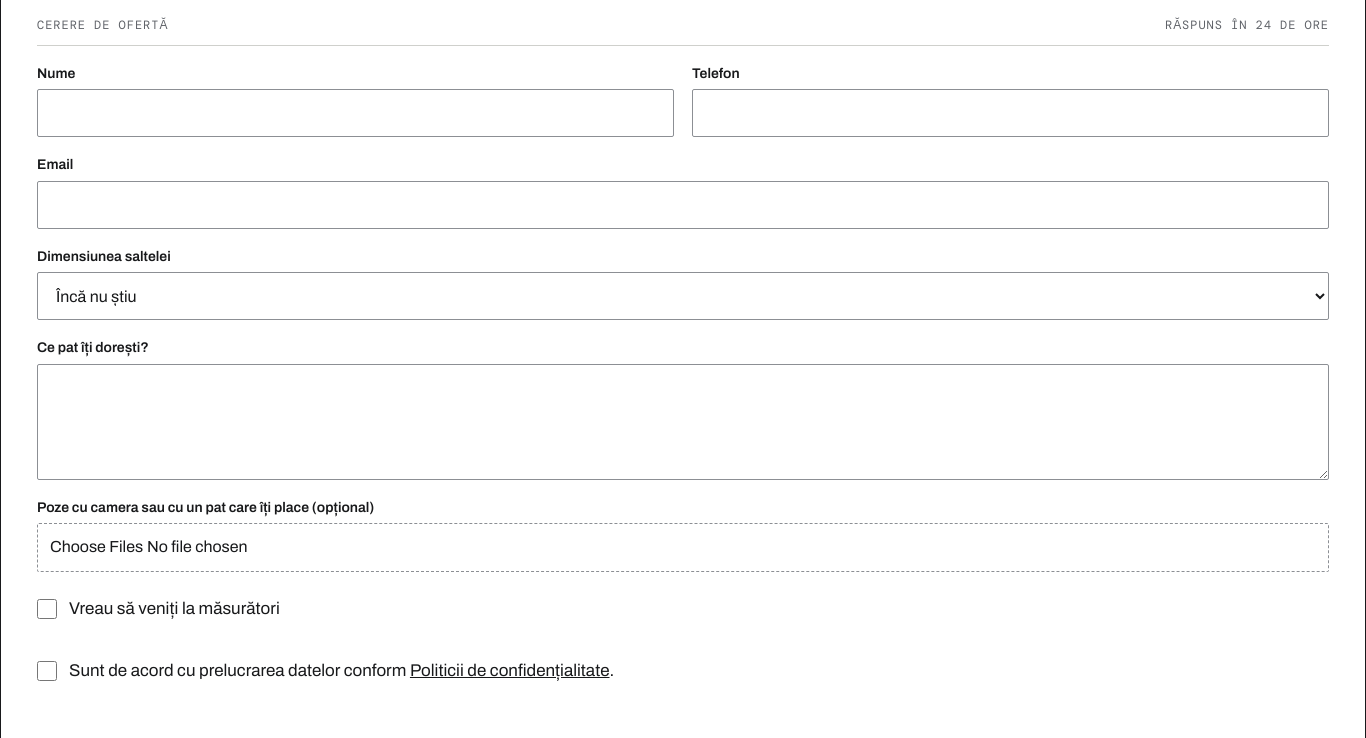
Scenario: ContactForm › shows a server error message and the server's field errors
Type "Ana Pop" into the field labelled "Nume" at (356, 113), box top-left (37, 89), bottom-right (674, 137)
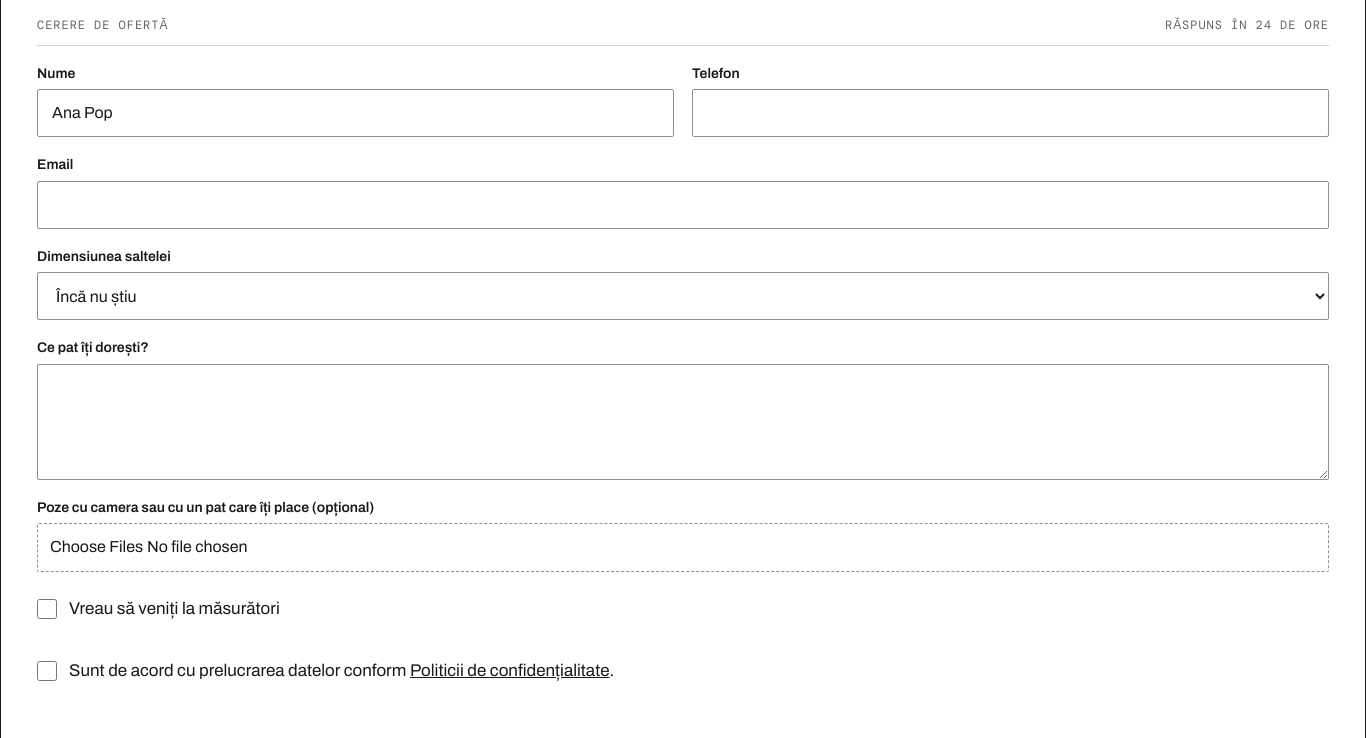
Type "0722 123 456" into the field labelled "Telefon" at (1010, 113), box top-left (692, 89), bottom-right (1329, 137)
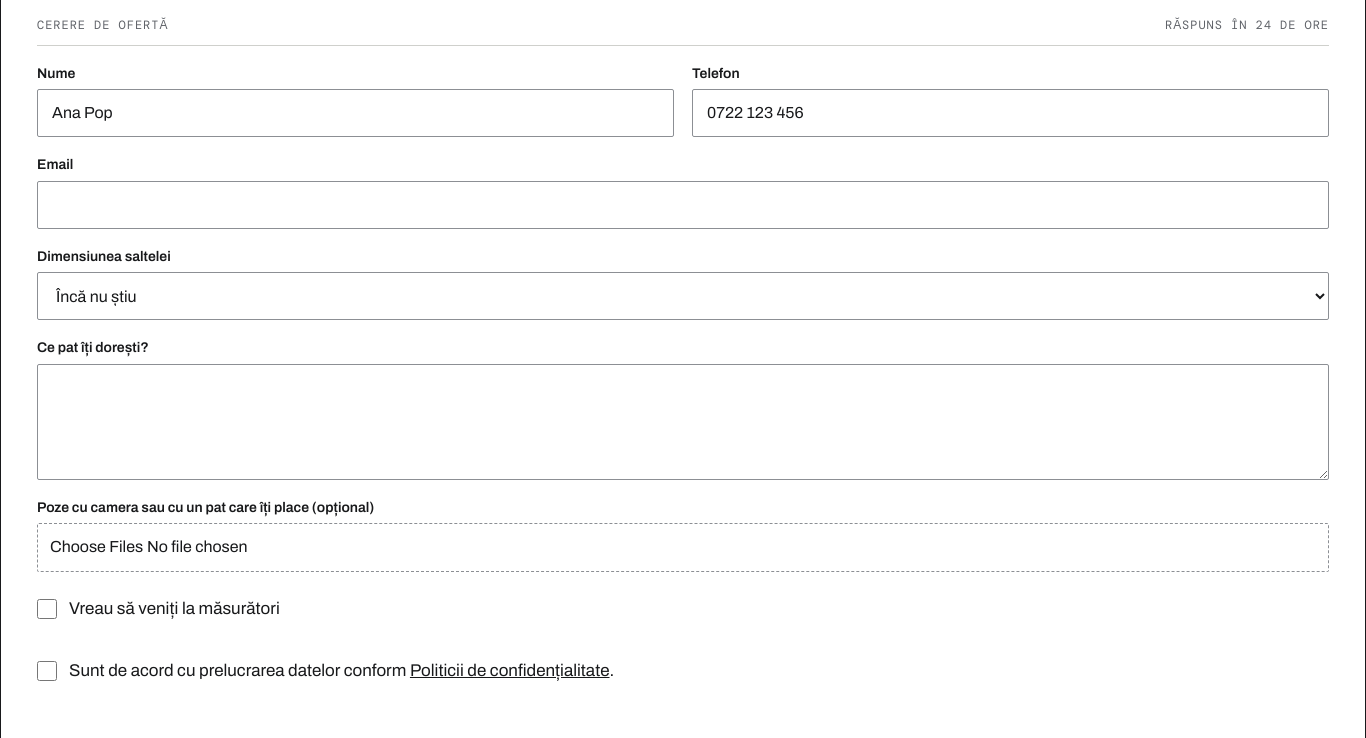
Type "ana@example.com" into the field labelled "Email" at (683, 205), box top-left (37, 181), bottom-right (1329, 229)
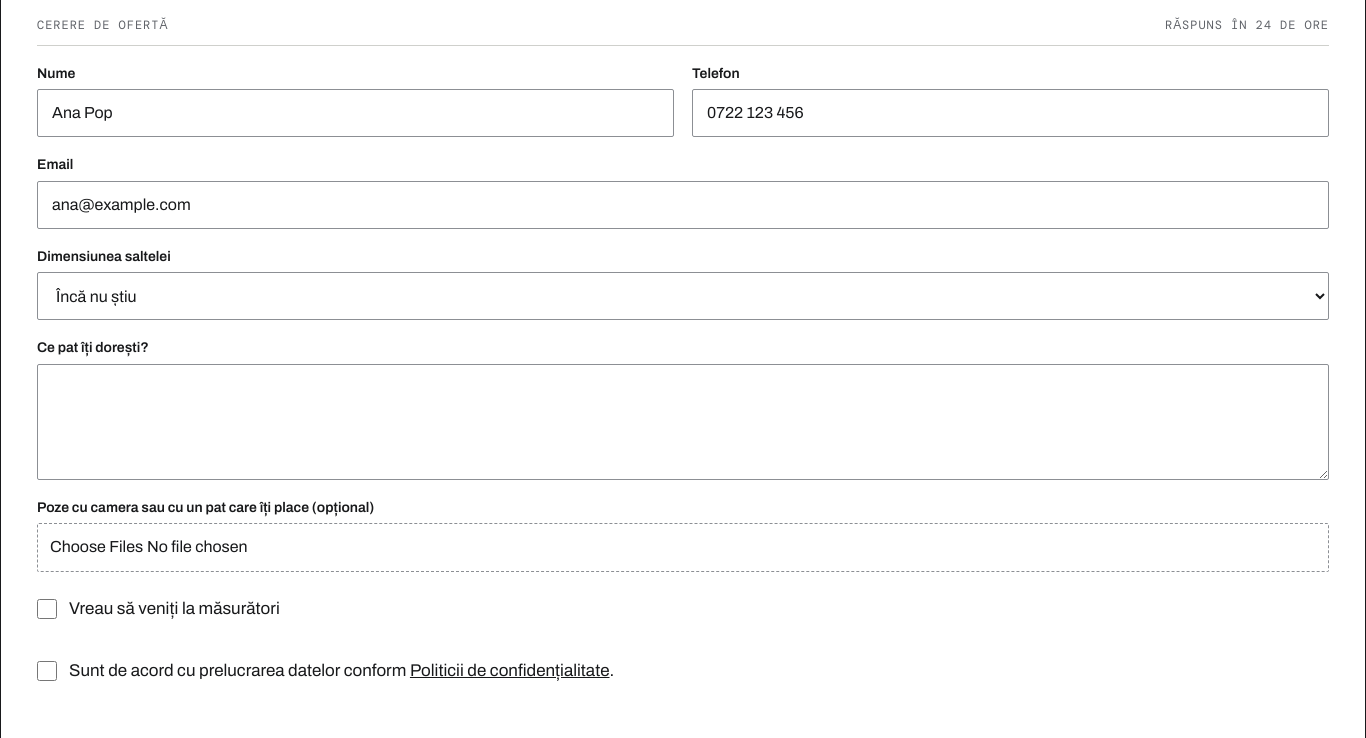
Click the checkbox labelled "Sunt de acord" at (47, 670), box top-left (37, 660), bottom-right (57, 680)
(page scrolled)
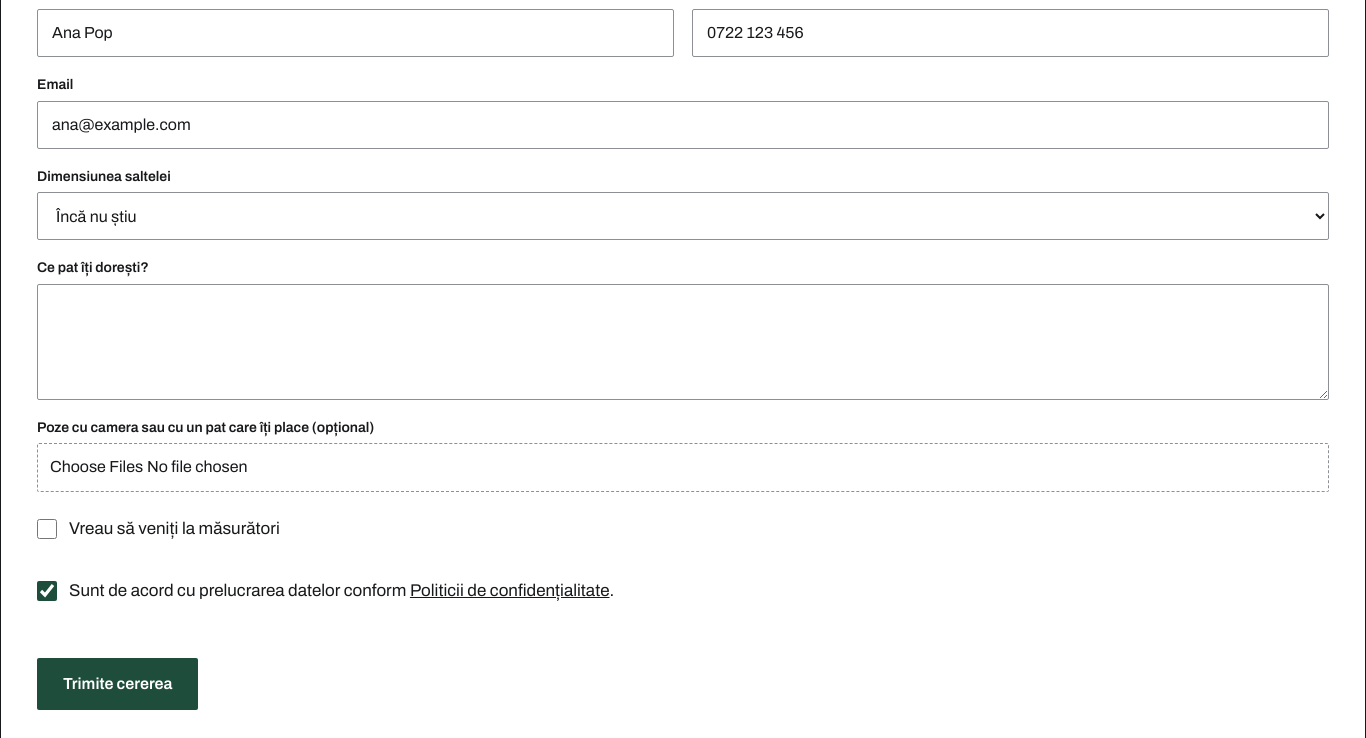
Click the button "Trimite cererea" at (118, 684), box top-left (37, 658), bottom-right (198, 710)
(page scrolled)
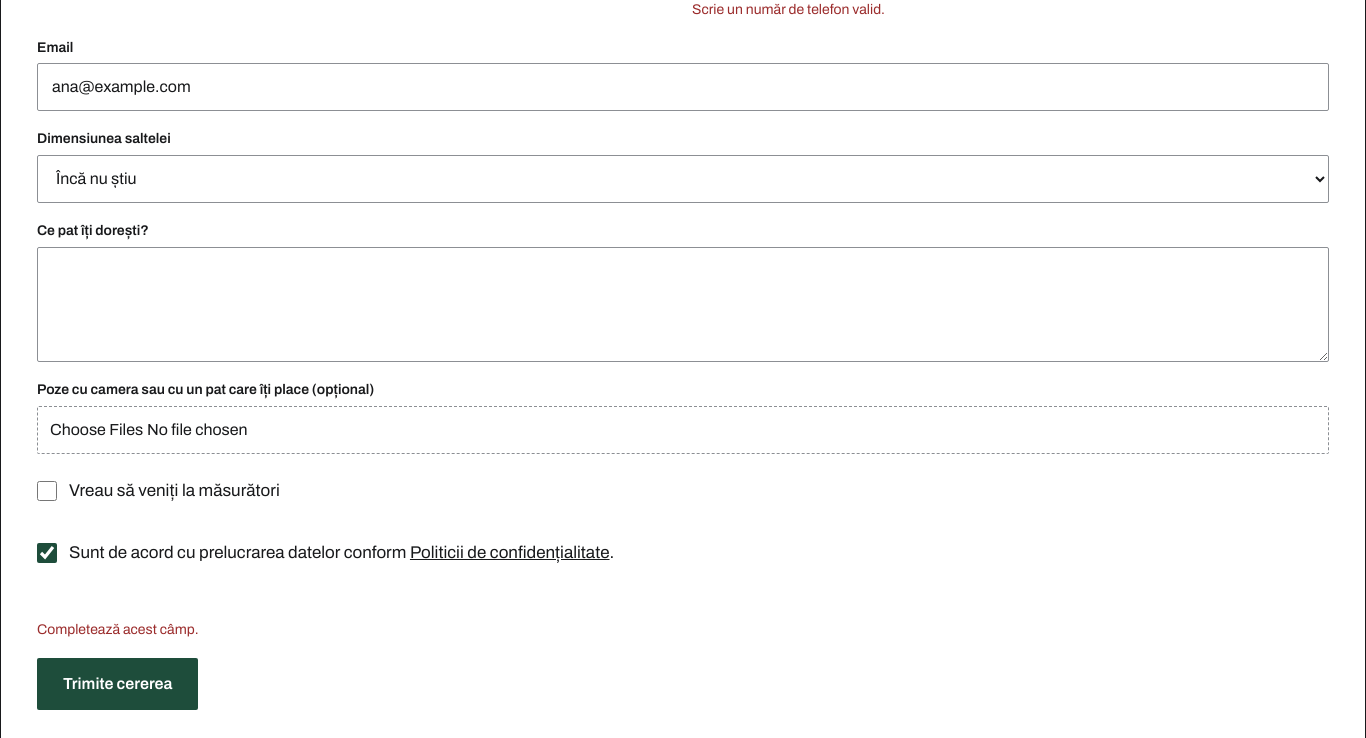
Expected: the message reads "Completează acest câmp.", top-left (37, 622), bottom-right (198, 637)
